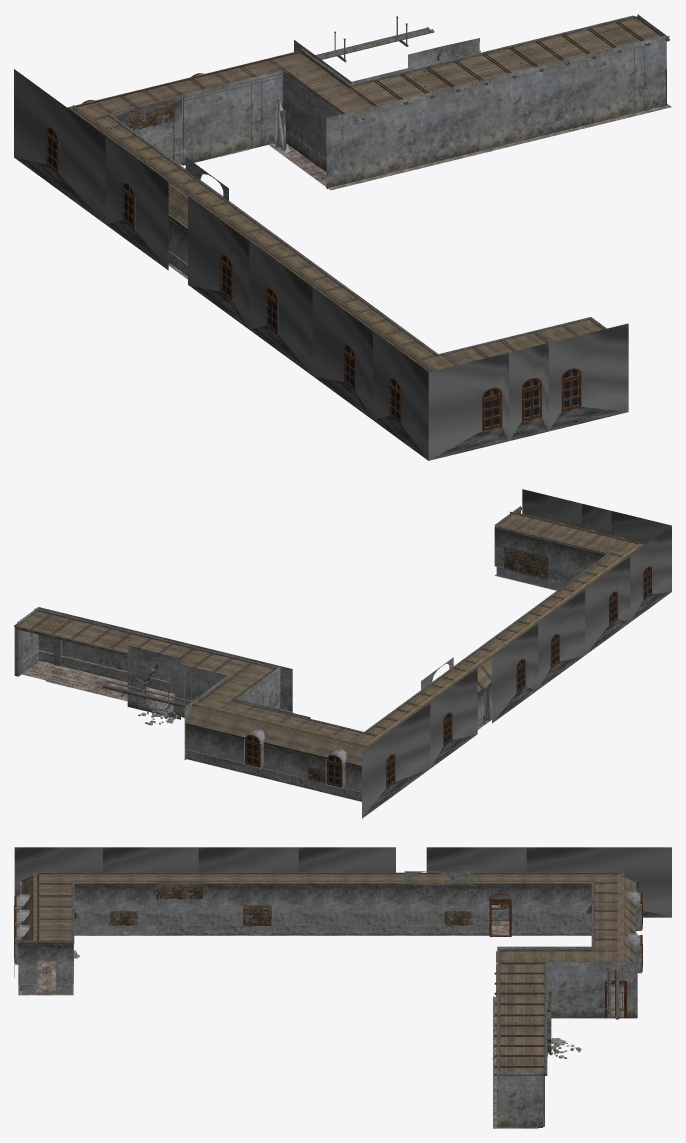
3 views of the same model, one above another, from view 1: azimuth 30°, elevation 25°; view 2: azimuth 150°, elevation 25°; view 3: azimuth 270°, elevation 25° (orthographic). The views are drawn at different scales.
Parts seen in each view (by area): view 1: LOD_1_Group_0_Sub_2__Wall_Mat, LOD_1_Group_0_Sub_4__st2_policeWest3f4fWall02_Mat__Env_Defau, LOD_1_Group_0_Sub_8__st2_policeWest3f4fCeiling01, LOD_1_Group_0_Sub_9__st2_policeWest3f4fFrame01, LOD_1_Group_0_Sub_10__st2_policeWest3f4fWindow01, LOD_1_Group_0_Sub_11__st2_policeWest3f4fWindow01_Glass, LOD_1_Group_0_Sub_1__st2_policeWest3f4fFloor02, LOD_1_Group_0_Sub_13__st2_policeWest3f4fPipeline01, LOD_1_Group_0_Sub_3__st2_policeWest3f4fBrick01; view 2: LOD_1_Group_0_Sub_2__Wall_Mat, LOD_1_Group_0_Sub_4__st2_policeWest3f4fWall02_Mat__Env_Defau, LOD_1_Group_0_Sub_8__st2_policeWest3f4fCeiling01, LOD_1_Group_0_Sub_9__st2_policeWest3f4fFrame01, LOD_1_Group_0_Sub_1__st2_policeWest3f4fFloor02, LOD_1_Group_0_Sub_10__st2_policeWest3f4fWindow01, LOD_1_Group_0_Sub_11__st2_policeWest3f4fWindow01_Glass, LOD_1_Group_0_Sub_3__st2_policeWest3f4fBrick01, LOD_1_Group_0_Sub_5__st2_policeWest3f4fWall04, LOD_1_Group_0_Sub_13__st2_policeWest3f4fPipeline01; view 3: LOD_1_Group_0_Sub_4__st2_policeWest3f4fWall02_Mat__Env_Defau, LOD_1_Group_0_Sub_8__st2_policeWest3f4fCeiling01, LOD_1_Group_0_Sub_2__Wall_Mat, LOD_1_Group_0_Sub_9__st2_policeWest3f4fFrame01, LOD_1_Group_0_Sub_3__st2_policeWest3f4fBrick01, LOD_1_Group_0_Sub_1__st2_policeWest3f4fFloor02, LOD_1_Group_0_Sub_13__st2_policeWest3f4fPipeline01, LOD_1_Group_0_Sub_17__st2_police2fLeftDoor01.
Part boxes in pixels (x1,y1,x2,y2): LOD_1_Group_0_Sub_2__Wall_Mat: (14,69,628,460); LOD_1_Group_0_Sub_4__st2_policeWest3f4fWall02_Mat__Env_Defau: (59,14,666,383); LOD_1_Group_0_Sub_8__st2_policeWest3f4fCeiling01: (67,18,669,371); LOD_1_Group_0_Sub_9__st2_policeWest3f4fFrame01: (68,15,669,371); LOD_1_Group_0_Sub_10__st2_policeWest3f4fWindow01: (46,73,581,430); LOD_1_Group_0_Sub_11__st2_policeWest3f4fWindow01_Glass: (48,128,579,427); LOD_1_Group_0_Sub_1__st2_policeWest3f4fFloor02: (168,104,671,279); LOD_1_Group_0_Sub_13__st2_policeWest3f4fPipeline01: (105,16,615,349); LOD_1_Group_0_Sub_3__st2_policeWest3f4fBrick01: (129,60,459,316); LOD_1_Group_0_Sub_2__Wall_Mat: (362,489,671,818); LOD_1_Group_0_Sub_4__st2_policeWest3f4fWall02_Mat__Env_Defau: (17,506,624,801); LOD_1_Group_0_Sub_8__st2_policeWest3f4fCeiling01: (16,511,646,765); LOD_1_Group_0_Sub_9__st2_policeWest3f4fFrame01: (14,507,645,768); LOD_1_Group_0_Sub_1__st2_policeWest3f4fFloor02: (22,574,556,801); LOD_1_Group_0_Sub_10__st2_policeWest3f4fWindow01: (245,522,651,788); LOD_1_Group_0_Sub_11__st2_policeWest3f4fWindow01_Glass: (246,567,650,785); LOD_1_Group_0_Sub_3__st2_policeWest3f4fBrick01: (188,546,569,783); LOD_1_Group_0_Sub_5__st2_policeWest3f4fWall04: (14,614,489,785); LOD_1_Group_0_Sub_13__st2_policeWest3f4fPipeline01: (52,538,507,732); LOD_1_Group_0_Sub_4__st2_policeWest3f4fWall02_Mat__Env_Defau: (15,871,641,1127); LOD_1_Group_0_Sub_8__st2_policeWest3f4fCeiling01: (21,872,635,1076); LOD_1_Group_0_Sub_2__Wall_Mat: (14,847,671,977); LOD_1_Group_0_Sub_9__st2_policeWest3f4fFrame01: (20,873,636,1078); LOD_1_Group_0_Sub_3__st2_policeWest3f4fBrick01: (25,881,591,1002); LOD_1_Group_0_Sub_1__st2_policeWest3f4fFloor02: (18,921,623,1128); LOD_1_Group_0_Sub_13__st2_policeWest3f4fPipeline01: (54,878,623,1080); LOD_1_Group_0_Sub_17__st2_police2fLeftDoor01: (489,893,626,1018).
Size of what is drawn, in the model's own units: 28.35 by 4.49 by 37.24.
